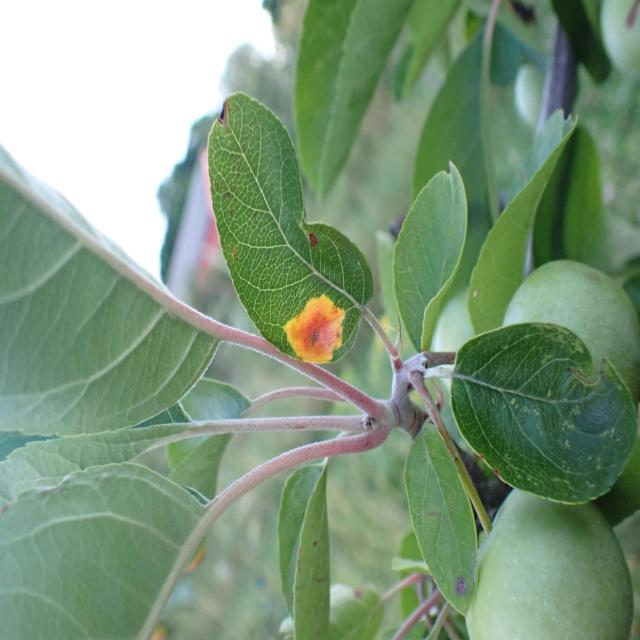rust: (205, 90, 374, 368)
